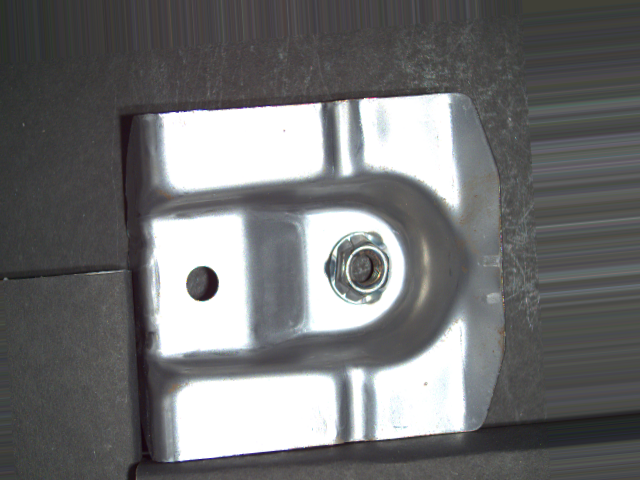good: (324, 225, 393, 307)
